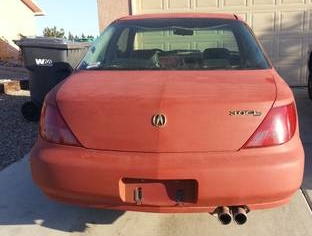acura: (26, 11, 311, 228)
